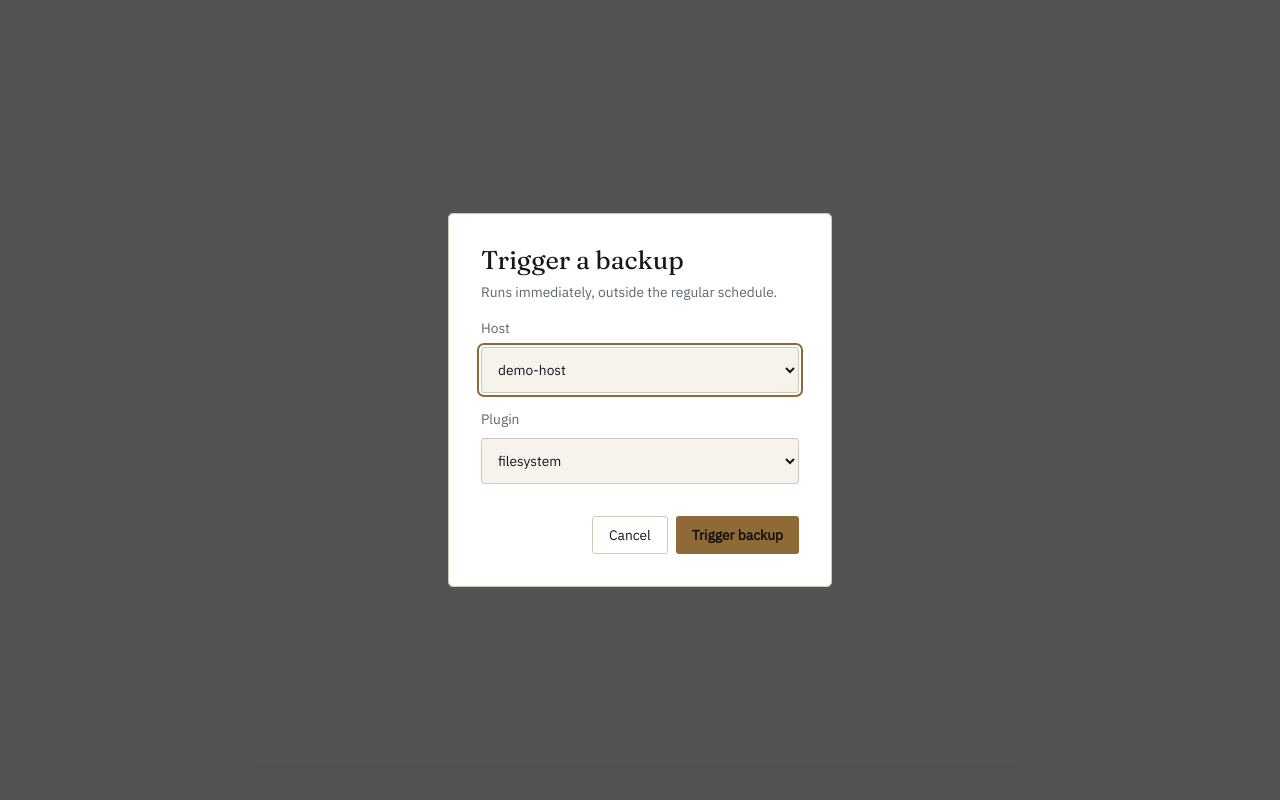
TriggerBackupModal › shows a clear inline message, without closing, when the token lacks write scope
Click the button "Trigger backup".
click(737, 535)  # box x1=676 y1=516 x2=799 y2=554
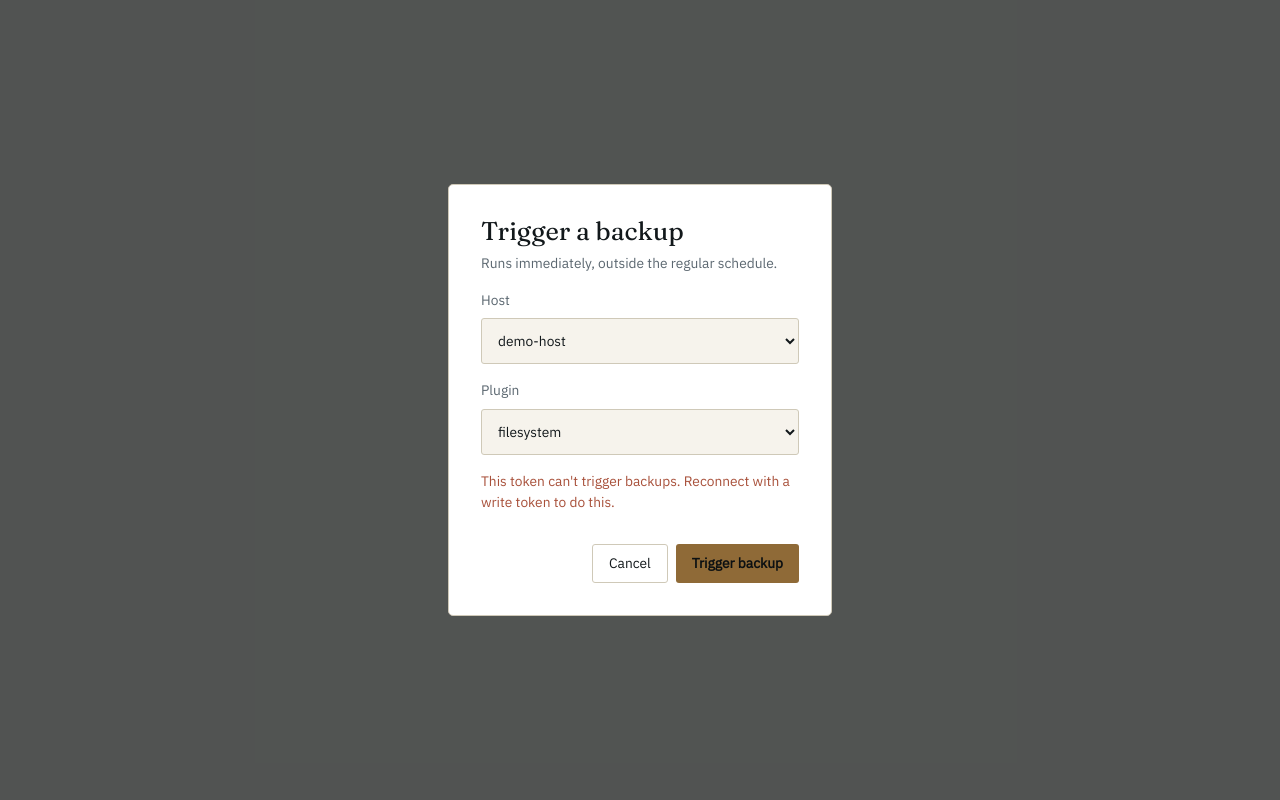
Expected: the dialog is shown, x1=448 y1=184 x2=832 y2=616
Expected: the message shows "Reconnect with a write token", x1=481 y1=472 x2=790 y2=511
